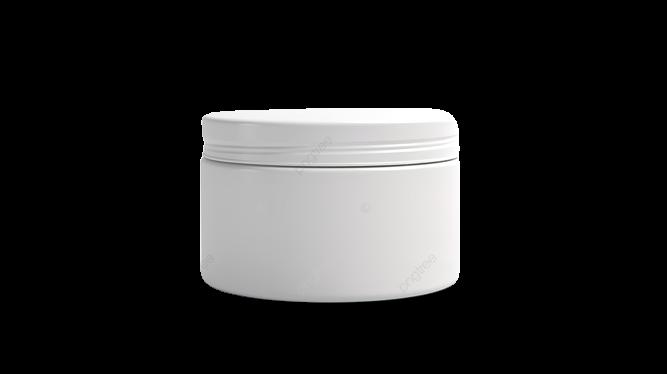Plastik: (190, 101, 472, 306)
